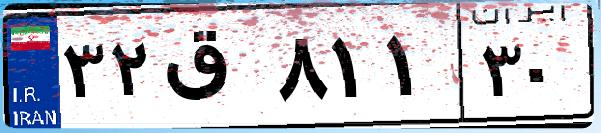0: (525, 38, 570, 115)
1: (385, 28, 445, 110), (330, 28, 385, 110)
2: (110, 28, 158, 98)
3: (57, 26, 110, 100), (475, 38, 525, 113)
8: (270, 28, 330, 110)
ق: (158, 20, 270, 120)
